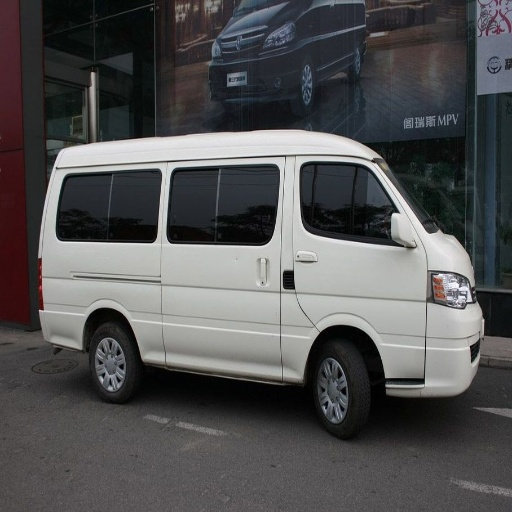back_bumper: (397, 305, 480, 396)
back_right_door: (285, 156, 354, 254), (59, 166, 155, 231), (171, 165, 225, 244)
back_right_light: (433, 273, 473, 307)
trunk: (322, 276, 470, 383), (45, 264, 157, 359)
